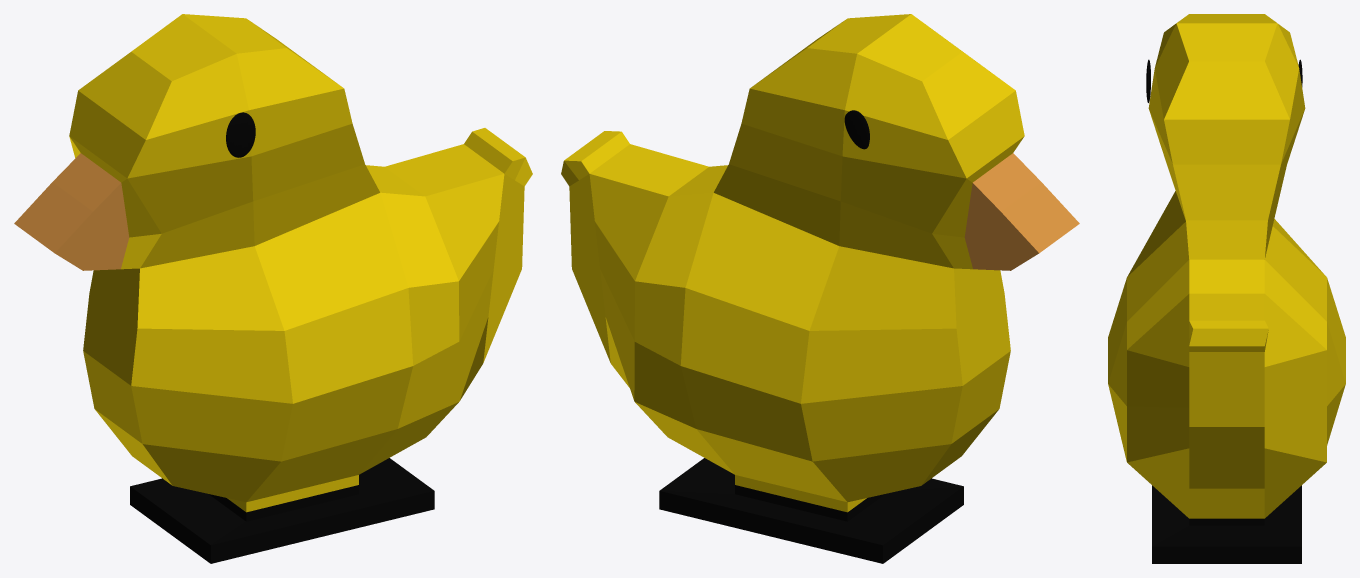
File: patoamarillo1.glb
3 views of the same model, side by side, from view 1: azimuth 30°, elevation 25°; view 2: azimuth 150°, elevation 25°; view 3: azimuth 270°, elevation 25° (orthographic). The views are drawn at different scales.
Parts seen in each view (by area): view 1: Cube.002, Sphere.001; view 2: Cube.002, Sphere; view 3: Cube.002.
Part boxes in pixels (x1,y1,x2,y2): Cube.002: (14,14,532,563); Sphere.001: (226,112,255,157); Cube.002: (561,14,1079,563); Sphere: (844,110,869,149); Cube.002: (1108,14,1345,563).
Size of the model in its own units: 2.86 by 2.81 by 1.32.
